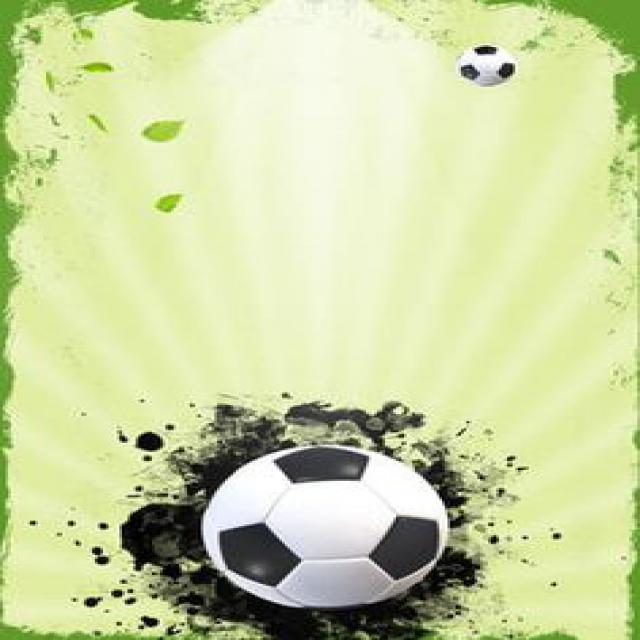ball: (196, 439, 454, 617), (453, 40, 524, 91)
